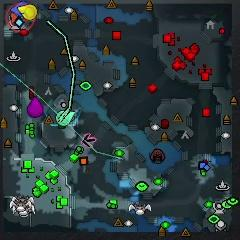p1: (13, 1, 31, 20)
p2: (57, 111, 75, 125)
p3: (28, 97, 43, 118)
p4: (18, 3, 40, 21)
p5: (8, 12, 21, 23)
x1Clone: (82, 133, 97, 147)
